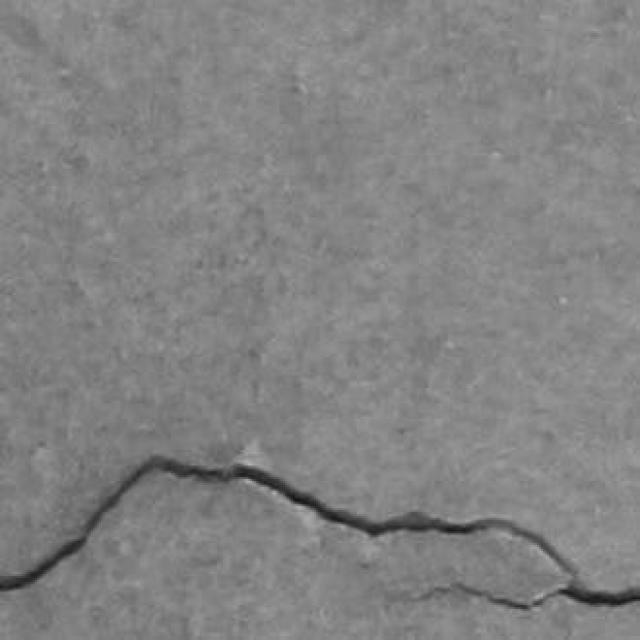crack: (0, 456, 639, 610)
